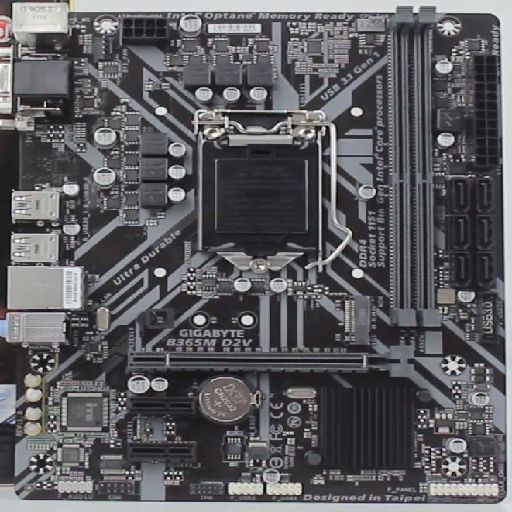CPU: (195, 130, 319, 273)
GPU: (126, 344, 419, 380)
MOTHERBOARD: (3, 7, 507, 507)
RAM: (390, 3, 445, 330)
SSD: (340, 294, 376, 347)
